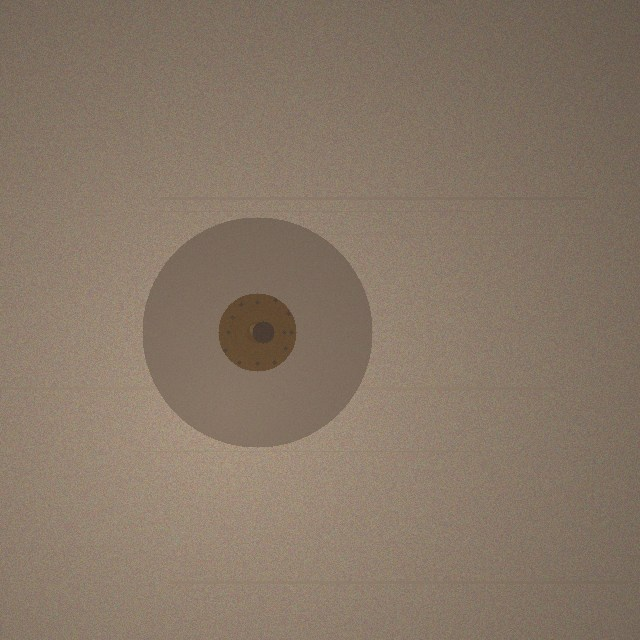cold_weld: (142, 217, 372, 447)
